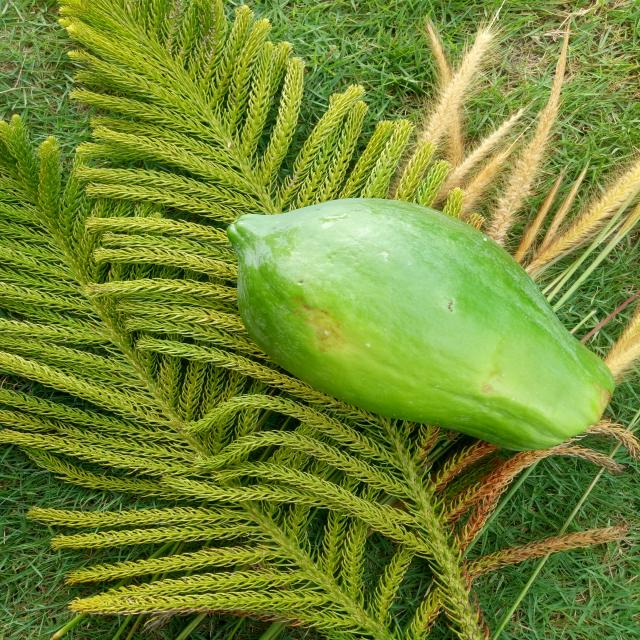Pepaya unrippen: (215, 202, 620, 454)
